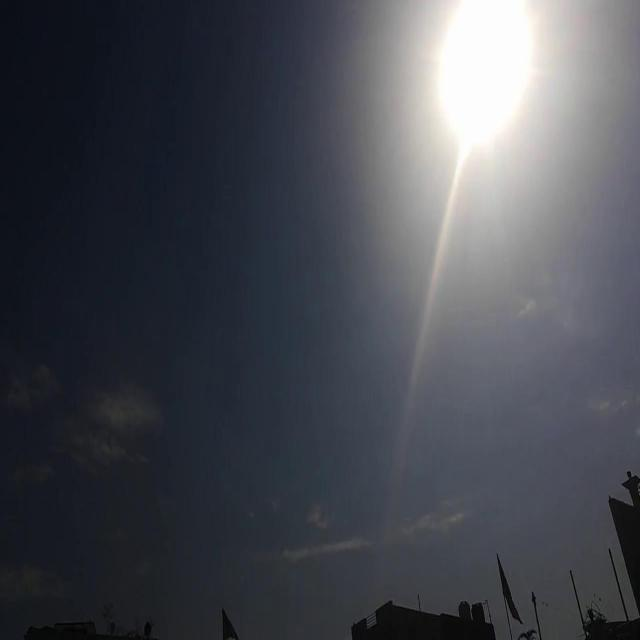other: (426, 3, 542, 146)
